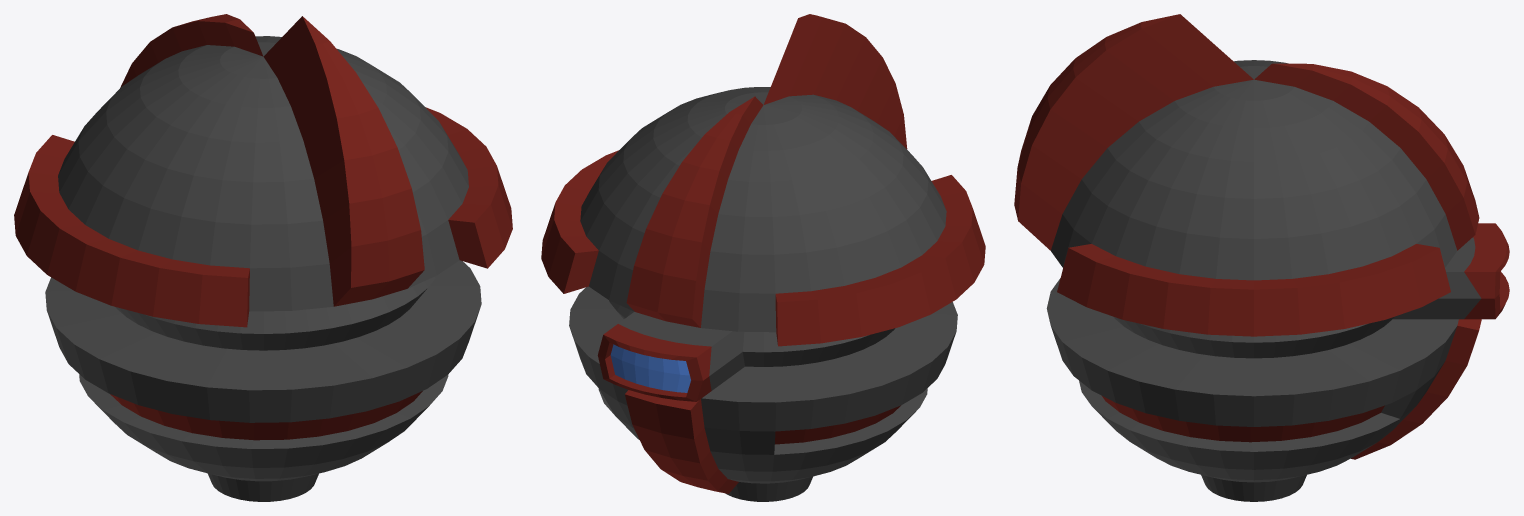
Rendered from EnemyBot.fbx.
3 renders of one model, left to right at view 1: azimuth 30°, elevation 25°; view 2: azimuth 150°, elevation 25°; view 3: azimuth 270°, elevation 25°, orthographic. The views are drawn at different scales.
Parts seen in each view (by area): view 1: Body, Camera; view 2: Body, Camera; view 3: Body, Camera.
Boxes of the visible parts, <box> form: Body: <box>14,14,512,501</box>; Camera: <box>115,275,436,350</box>; Body: <box>541,14,985,501</box>; Camera: <box>597,300,895,401</box>; Body: <box>1014,14,1481,501</box>; Camera: <box>1113,223,1509,358</box>.
Bounding box in the file's own units: 224 × 248 × 234.
